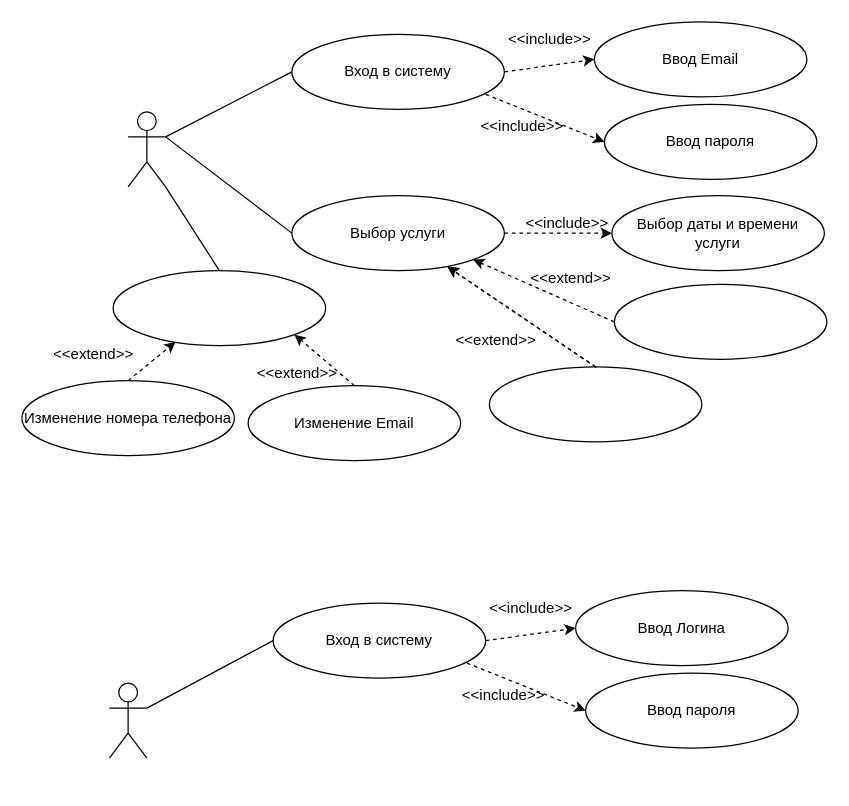
Some shapes in this 849 by 806 pixel diagram are drawn without their labels. The shapes that lost their labels are listed below. From the top down, each one's centre as x and y in pixels, then its label:
(146,149): Пациент
(219,307): Изменение данных о себе
(720,321): Выбор врача
(595,404): Прочесть рекомендации и описания услуги
(127,720): Врач
